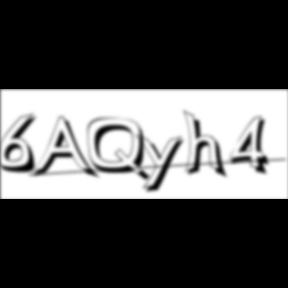4: (230, 115, 276, 179)
6: (1, 112, 44, 176)
A: (31, 116, 100, 182)
Q: (87, 117, 153, 184)
h: (184, 108, 230, 182)
y: (136, 132, 190, 196)
